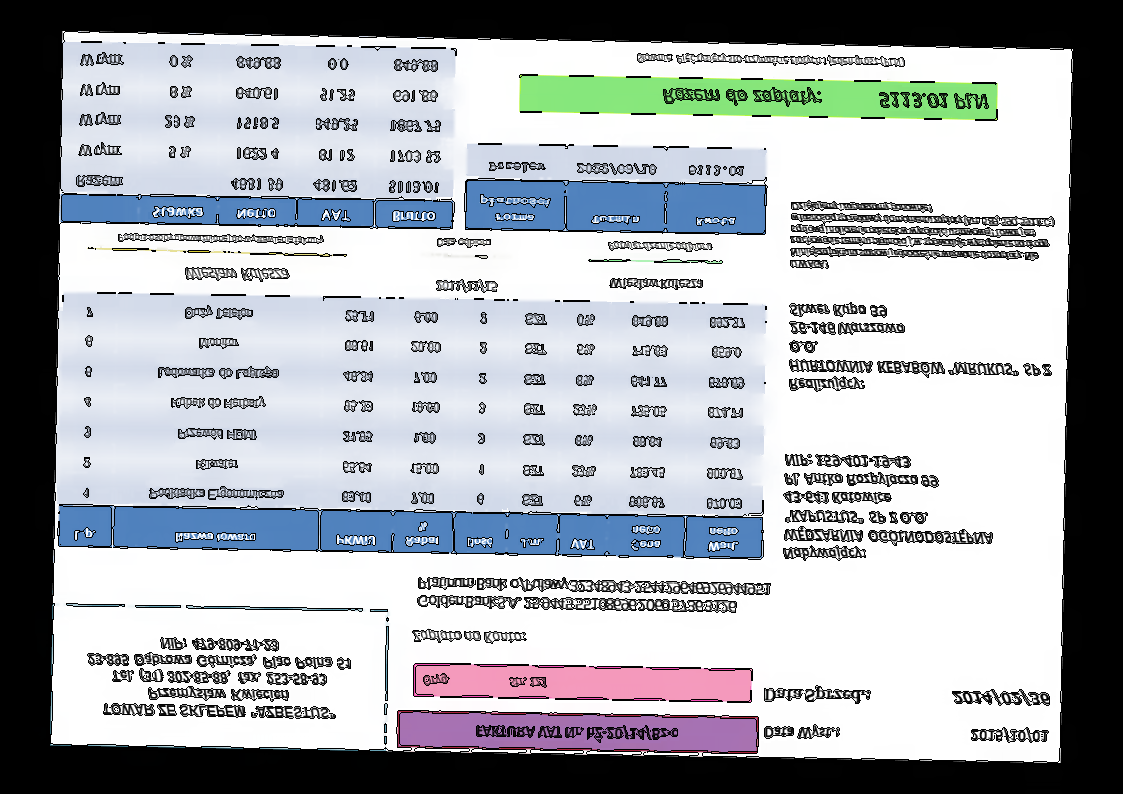Table: (57, 293, 766, 562), (60, 41, 456, 230), (463, 142, 768, 236)
TextBox: (787, 301, 1054, 398), (781, 450, 998, 565), (84, 633, 355, 721), (787, 199, 1058, 275), (416, 574, 774, 616), (660, 85, 990, 114), (635, 50, 906, 70), (475, 720, 680, 746), (116, 231, 325, 249), (409, 626, 528, 648), (763, 683, 874, 705), (182, 263, 292, 285), (951, 686, 1052, 708), (420, 674, 549, 690), (607, 275, 705, 294), (606, 238, 714, 255), (969, 726, 1049, 745), (763, 723, 842, 741), (433, 277, 499, 295), (434, 236, 491, 250)
